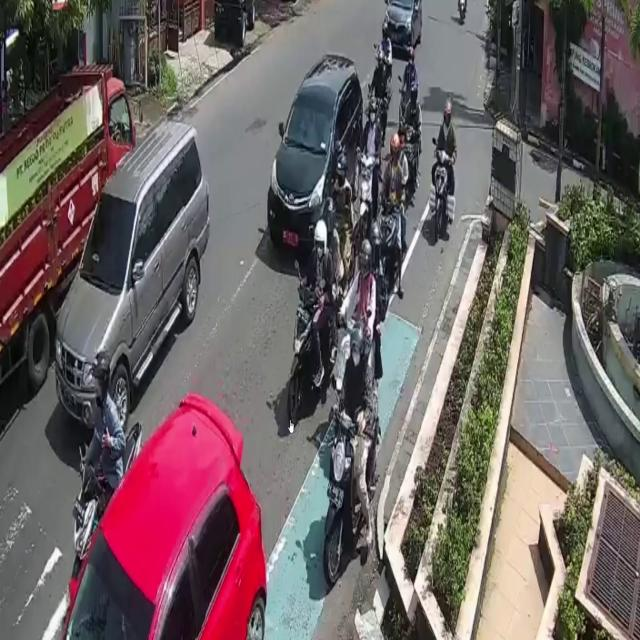car: (62, 390, 268, 640), (56, 120, 210, 432), (267, 55, 363, 261), (384, 0, 421, 55)
motorbike: (325, 393, 379, 585), (289, 279, 339, 416), (430, 145, 450, 245), (379, 192, 400, 276)
truck: (0, 65, 135, 388)
